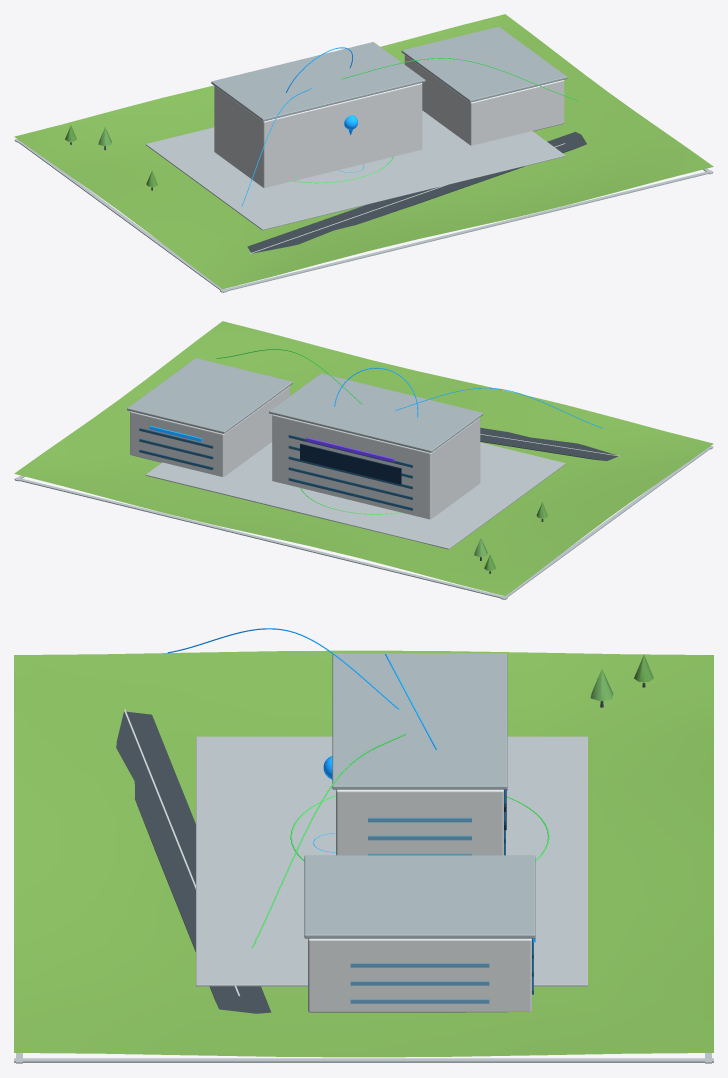
File: ai-command-center.glb
The picture shows the model from 3 angles, top to bottom: view 1: azimuth 30°, elevation 25°; view 2: azimuth 150°, elevation 25°; view 3: azimuth 270°, elevation 25°; orthographic projection. The views are drawn at different scales.
Parts seen in each view (by area): view 1: ai command center area terrain surface, command center secure slab, AI command center main volume white mass, AI command center main volume roof cap, AI data hall wing roof cap, AI data hall wing white mass, command secure approach road asphalt, ai command center area concrete border south, ai command center area concrete border west; view 2: ai command center area terrain surface, command center secure slab, AI command center main volume white mass, AI command center main volume roof cap, AI data hall wing roof cap, AI data hall wing white mass, command secure approach road asphalt, ai command center area concrete border north, command center dark operations window, ai command center area concrete border west, AI command center main volume front window band 1, AI command center main volume front window band 2; view 3: ai command center area terrain surface, command center secure slab, AI command center main volume roof cap, AI data hall wing roof cap, AI data hall wing white mass, AI command center main volume white mass, command secure approach road asphalt, ai command center area concrete border east, AI data hall wing side window band 1, AI data hall wing side window band 2, AI data hall wing side window band 3.
Boxes of the visible parts, x1,y1,x2,y2 form: ai command center area terrain surface: (14, 14, 713, 289); command center secure slab: (145, 110, 565, 230); AI command center main volume white mass: (214, 83, 422, 187); AI command center main volume roof cap: (211, 42, 425, 121); AI data hall wing roof cap: (401, 26, 567, 102); AI data hall wing white mass: (404, 55, 564, 145); command secure approach road asphalt: (247, 132, 586, 253); ai command center area concrete border south: (220, 170, 713, 292); ai command center area concrete border west: (15, 139, 227, 292); ai command center area terrain surface: (14, 321, 713, 596); command center secure slab: (145, 442, 565, 549); AI command center main volume white mass: (272, 414, 480, 519); AI command center main volume roof cap: (269, 373, 483, 452); AI data hall wing roof cap: (127, 358, 292, 433); AI data hall wing white mass: (130, 386, 289, 476); command secure approach road asphalt: (480, 427, 617, 460); ai command center area concrete border north: (14, 477, 507, 599); command center dark operations window: (300, 443, 401, 484); ai command center area concrete border west: (500, 446, 712, 599); AI command center main volume front window band 1: (288, 478, 412, 510); AI command center main volume front window band 2: (288, 467, 412, 499); ai command center area terrain surface: (14, 650, 713, 1057); command center secure slab: (196, 736, 587, 986); AI command center main volume roof cap: (332, 653, 507, 789); AI data hall wing roof cap: (304, 855, 535, 938); AI data hall wing white mass: (308, 938, 531, 1012); AI command center main volume white mass: (336, 789, 503, 855); command secure approach road asphalt: (116, 711, 271, 1013); ai command center area concrete border east: (14, 1058, 713, 1062); AI data hall wing side window band 1: (350, 999, 489, 1003); AI data hall wing side window band 2: (350, 981, 489, 985); AI data hall wing side window band 3: (350, 963, 489, 967).
Bounding box in the file's own units: 68 × 14.53 × 50.
